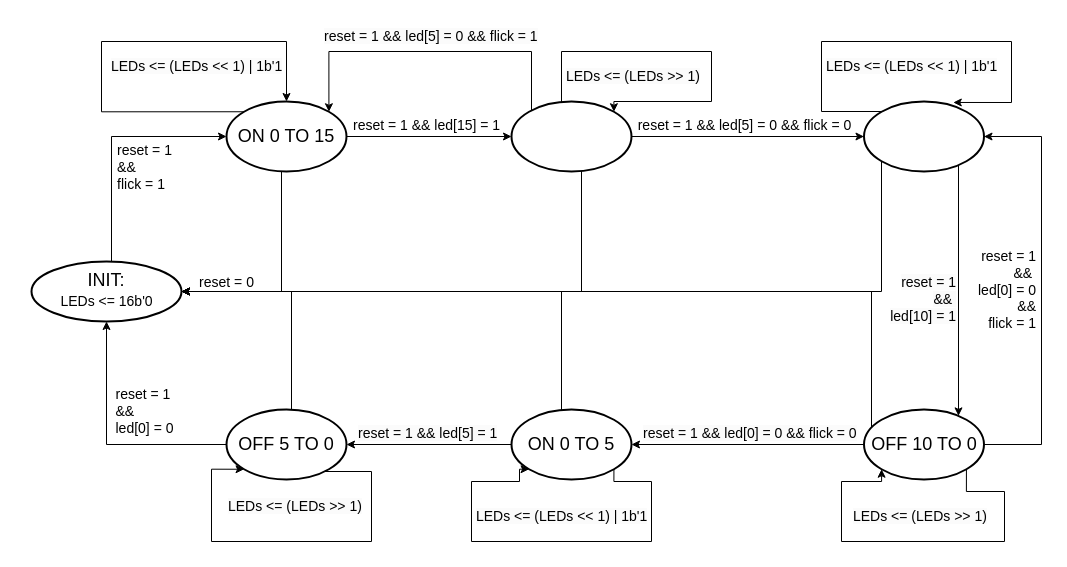
Image size: 1067x567. Some labels were removed from this diagram. The shapes that lost their labels are listed below. From the top down, each one's centre as x and y in pixels, then its label:
the point at 571,136: OFF 15 TO 5
the point at 923,136: ON 5 TO 10
